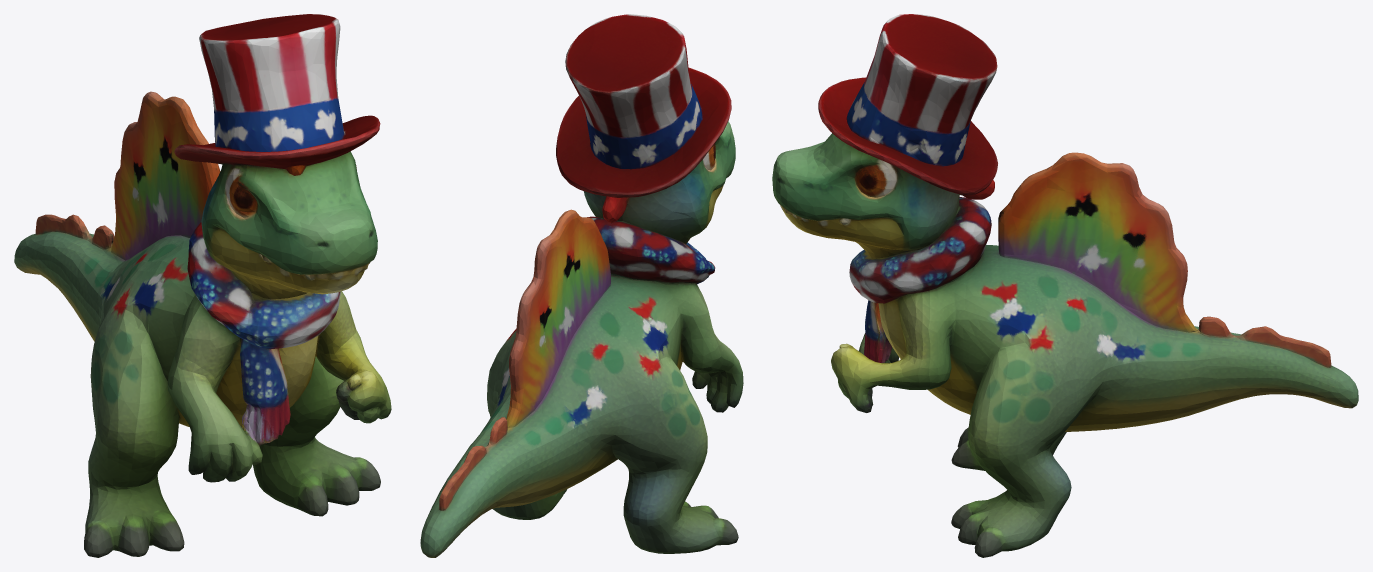
The model's file is july_4th.glb.
3 views of the same model, side by side, from view 1: azimuth 30°, elevation 25°; view 2: azimuth 150°, elevation 25°; view 3: azimuth 270°, elevation 25° (orthographic). The views are drawn at different scales.
Visible parts, largest first — view 1: world; view 2: world; view 3: world.
Boxes of the visible parts, bbox=[...] form: world: bbox=[14, 14, 391, 557]; world: bbox=[420, 14, 743, 557]; world: bbox=[772, 14, 1358, 557].
Size of the model in its own units: 0.5132 by 0.8879 by 1.
Materials: 1 (1 with a texture image).
